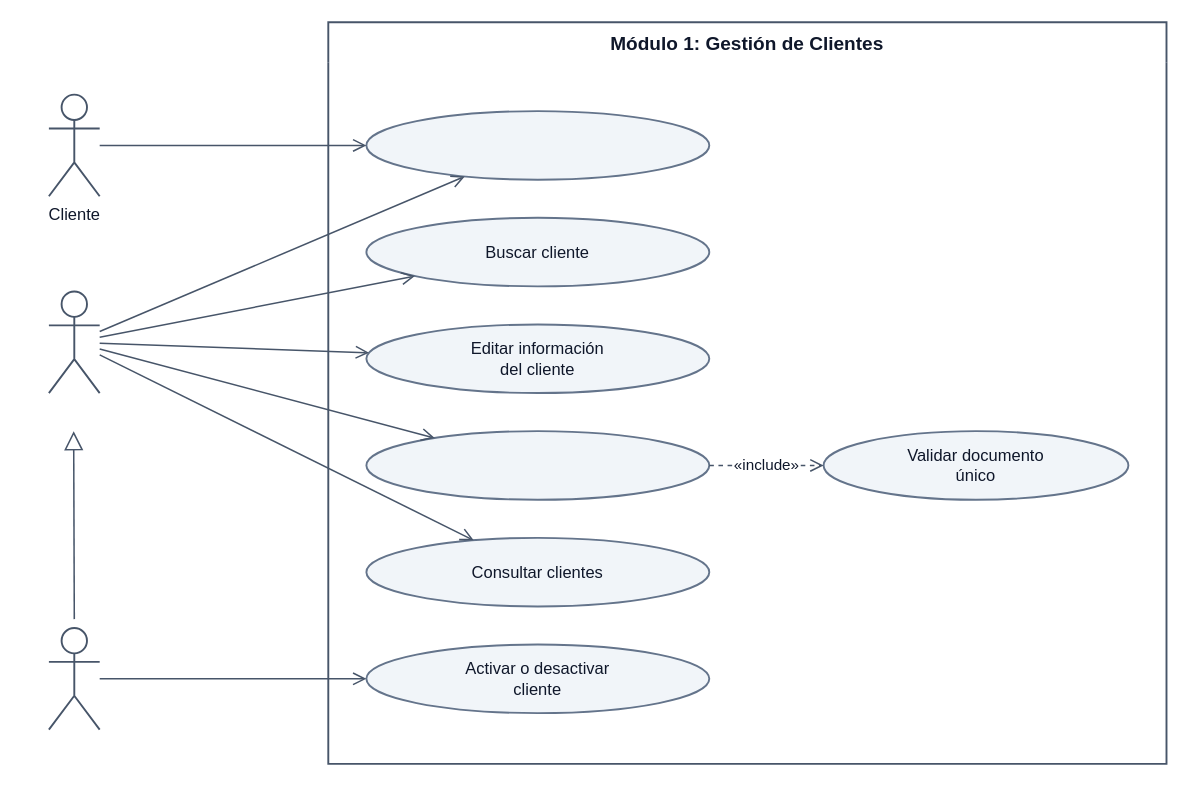
The diagram is 1190 pixels wide and 787 high, and some of its shapes have lost their labels. The shapes that lost their labels are listed below. From the top down, each one's centre as x and y in pixels, then its label:
pixel 537 145: Consultar membresía del cliente
pixel 73 341: Recepcionista
pixel 537 465: Registrar cliente
pixel 73 678: Administrador
